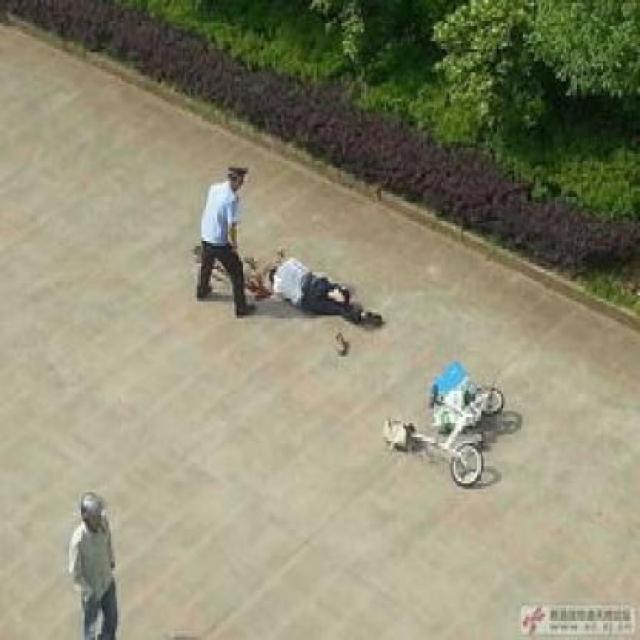fall: (231, 220, 384, 335)
